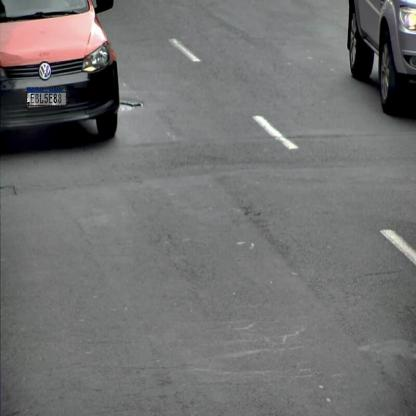PlacaM: (26, 87, 66, 106)
